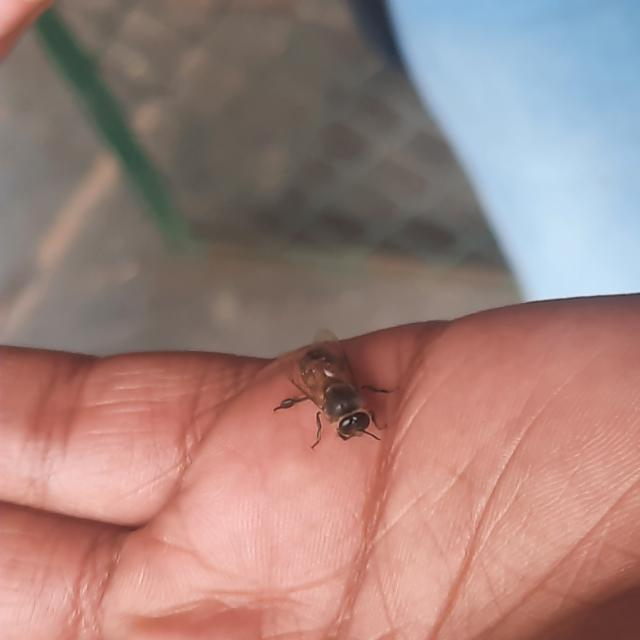honeybee: (287, 349, 380, 450)
